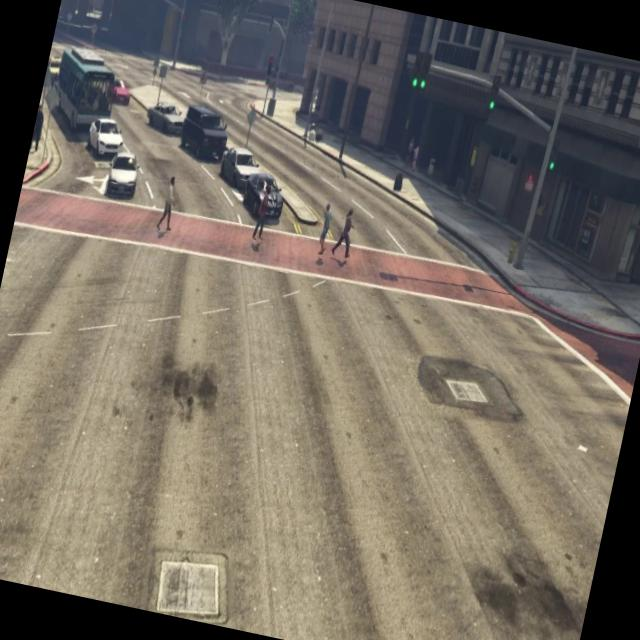Green-Signal: (398, 38, 442, 120), (477, 60, 510, 137), (538, 144, 566, 202)
